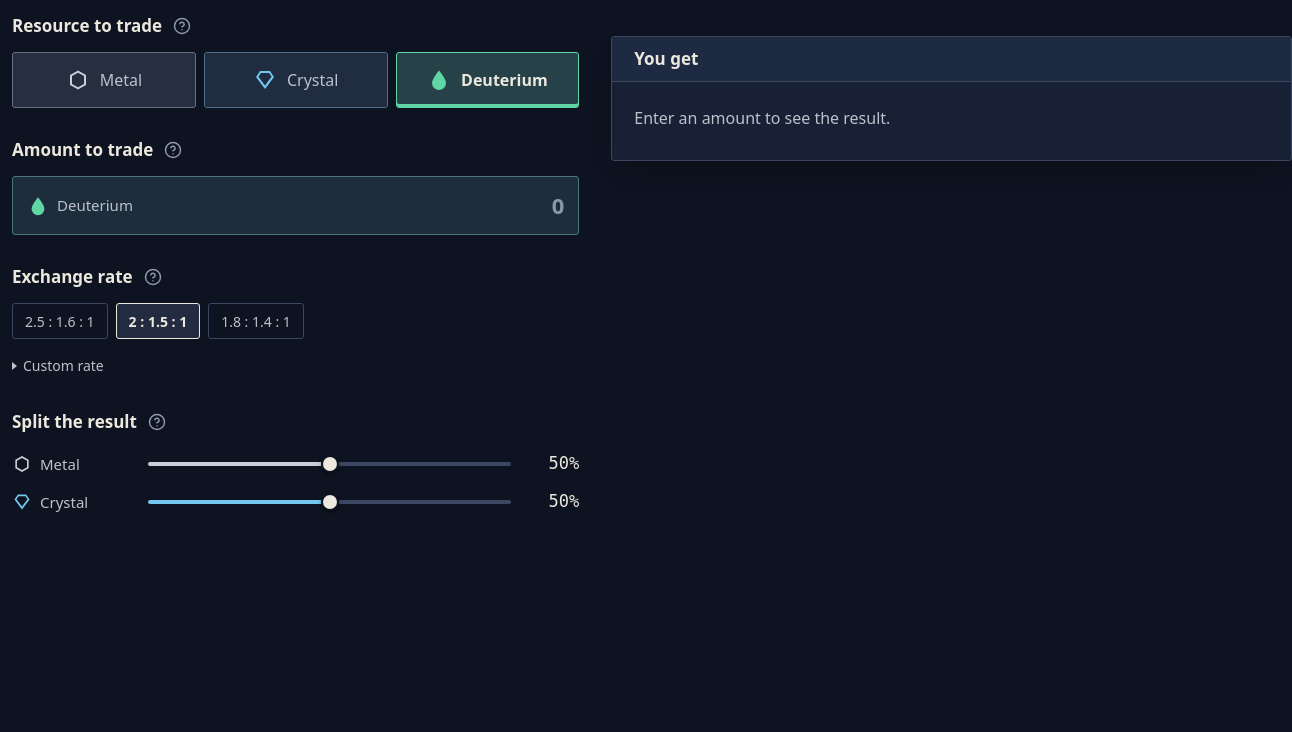
Test: <Trader /> › keeps the two split shares complementary
Set the slider named "Metal" to "30". click: (260,464)
box: [148,450,511,478]
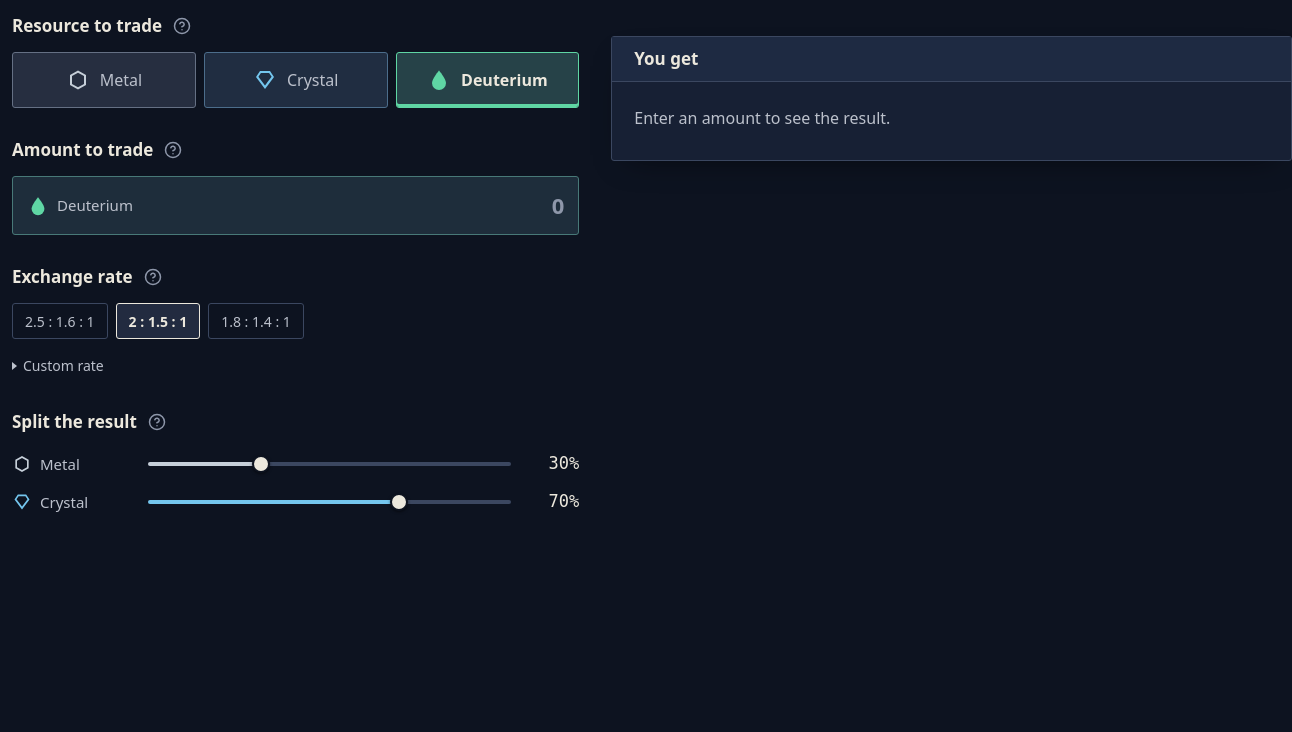
Check: the slider named "Crystal" holds "70", box [148,488,511,516]
